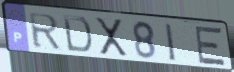8: (132, 20, 158, 61)
D: (61, 13, 94, 55)
E: (194, 24, 228, 67)
I: (163, 21, 178, 63)
R: (27, 12, 63, 51)
X: (93, 17, 130, 59)
